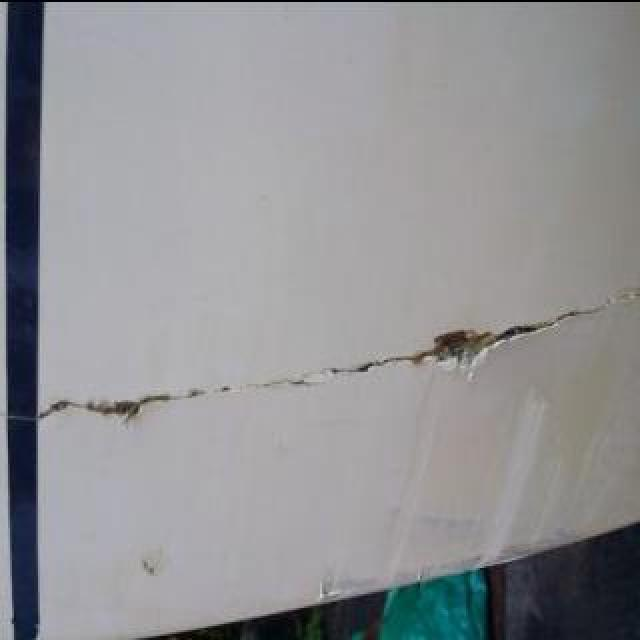crack: (25, 279, 640, 427)
